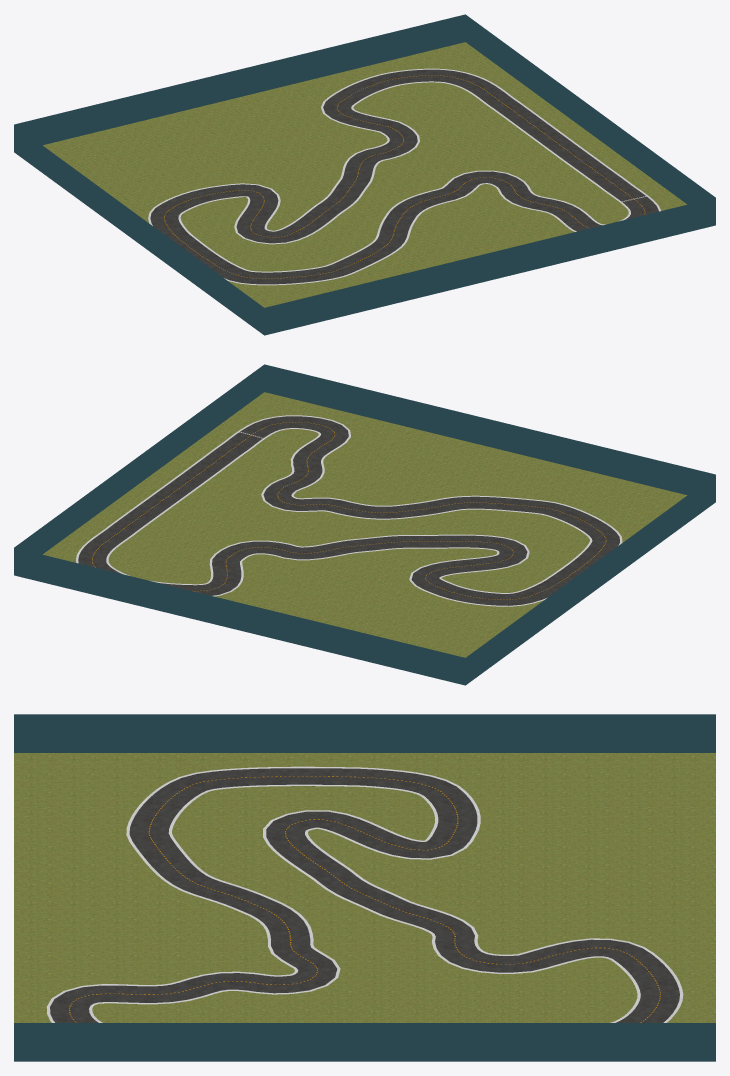
File: 2022_august_pro_ccw.dae
The picture shows the model from 3 angles, top to bottom: view 1: azimuth 30°, elevation 25°; view 2: azimuth 150°, elevation 25°; view 3: azimuth 270°, elevation 25°; orthographic projection. The views are drawn at different scales.
Parts seen in each view (by area): view 1: field, wall, road, ol, il, cl; view 2: field, wall, road, ol, il, cl; view 3: field, wall, road, il, ol, cl.
Boxes of the visible parts, bbox=[...] form: field: bbox=[43, 42, 686, 307]; wall: bbox=[14, 14, 715, 335]; road: bbox=[150, 69, 658, 285]; ol: bbox=[178, 81, 630, 272]; il: bbox=[148, 68, 660, 285]; cl: bbox=[164, 75, 645, 278]; field: bbox=[43, 392, 686, 657]; wall: bbox=[14, 364, 715, 685]; road: bbox=[78, 416, 619, 606]; ol: bbox=[106, 428, 592, 593]; il: bbox=[76, 415, 622, 606]; cl: bbox=[92, 422, 606, 599]; field: bbox=[14, 753, 715, 1022]; wall: bbox=[14, 714, 715, 1061]; road: bbox=[50, 768, 679, 1022]; il: bbox=[46, 766, 683, 1022]; ol: bbox=[89, 784, 640, 1022]; cl: bbox=[69, 776, 660, 1022].
Bounding box in the file's own units: 17.04 × 16.37 × 1.
Materials: 7 (7 with a texture image).
